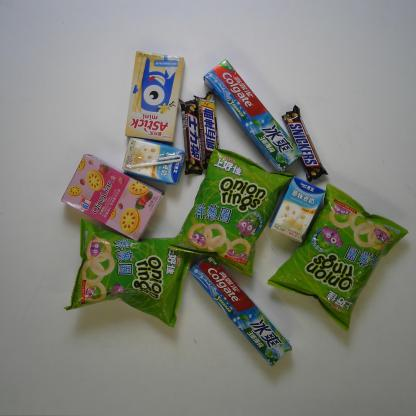Chocolate: (280, 103, 330, 183), (193, 90, 220, 170), (178, 97, 204, 177)
Dessert: (60, 152, 164, 242), (124, 49, 186, 144)
Milk: (267, 175, 326, 244), (121, 137, 186, 185)
Personal Hygiene: (188, 252, 294, 368), (202, 58, 304, 174)
Puffed Food: (265, 183, 410, 333), (167, 140, 296, 279), (61, 218, 193, 330)
